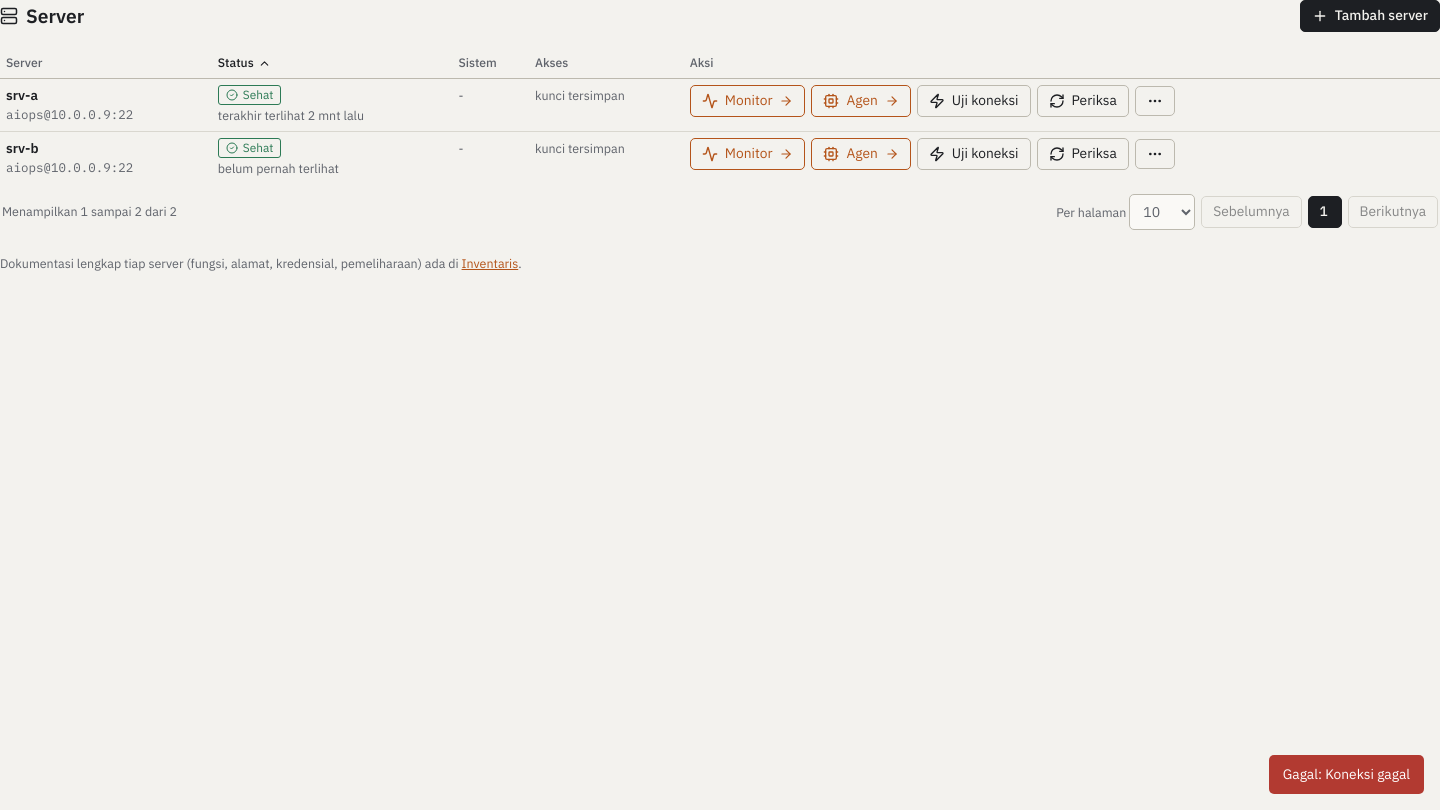
Test: ServersPage: tanpa pemantauan berkala › formulir tidak punya kotak atau interval pemantauan berkala; kolom Status menyebut kapan terakhir terlihat, bukan interval
Expected: the text "terakhir terlihat 2 mnt lalu" is shown, [218,107,364,123]
Expected: the text "belum pernah terlihat" is shown, [218,160,339,176]
Click the button "Tambah server" at (1370, 16), box [1300,0,1439,32]
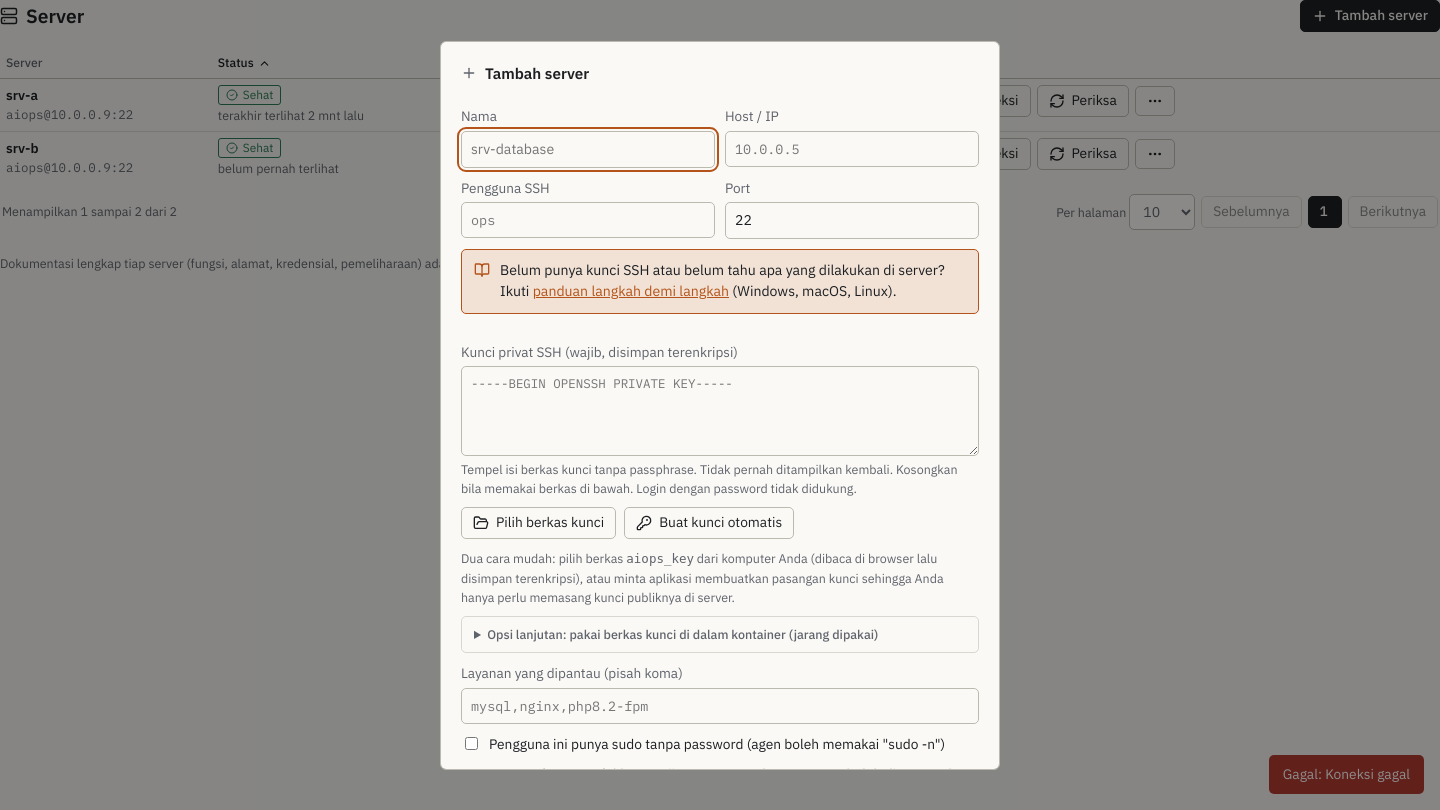
Expected: the field with placeholder "srv-database" is shown, [461,131,715,168]
